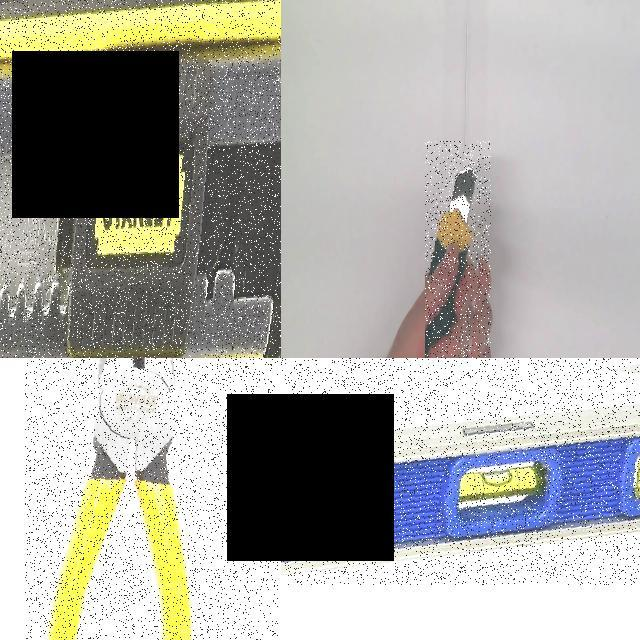estilete: (425, 170, 476, 354)
